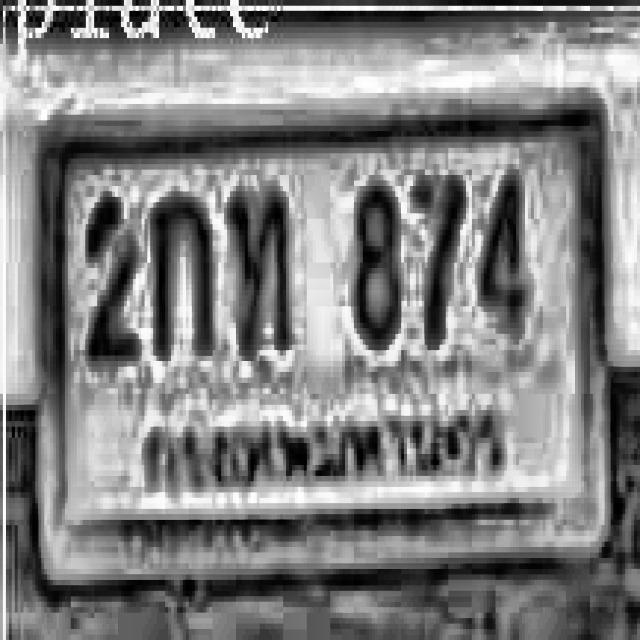license-plate: (33, 83, 612, 578)
